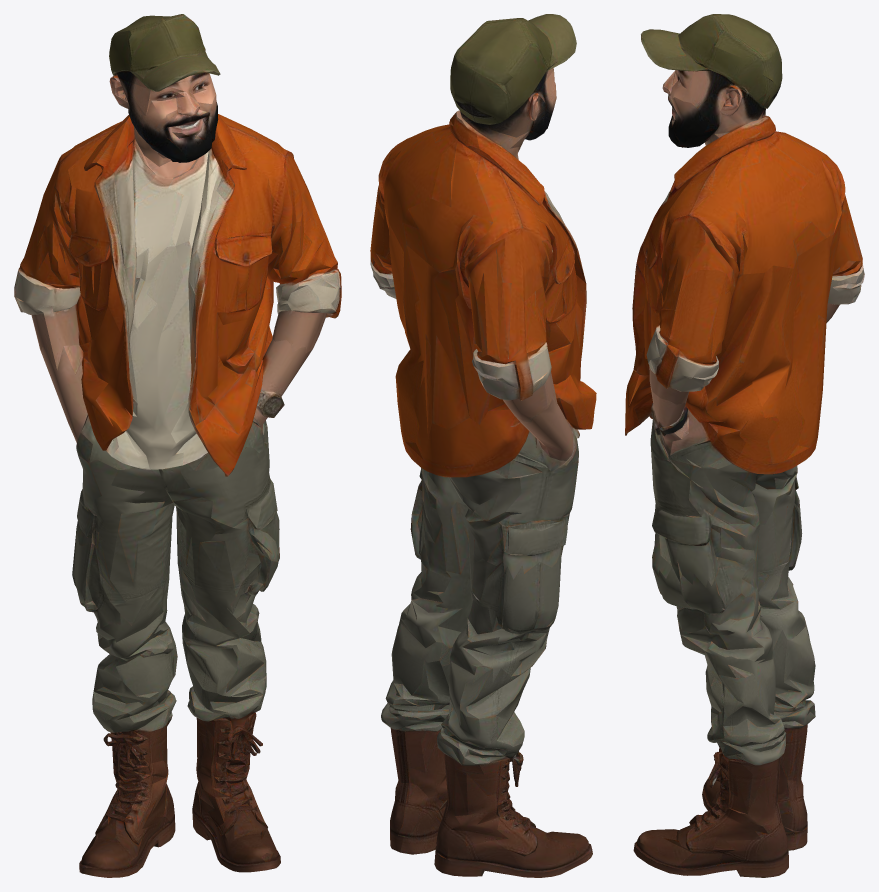
The model's file is tsudoi.glb.
The picture shows the model from 3 angles, left to right: view 1: azimuth 30°, elevation 25°; view 2: azimuth 150°, elevation 25°; view 3: azimuth 270°, elevation 25°; orthographic projection. The views are drawn at different scales.
Size of the model in its own units: 0.5751 by 1.9 by 0.5052.
Materials: 1 (1 with a texture image).
